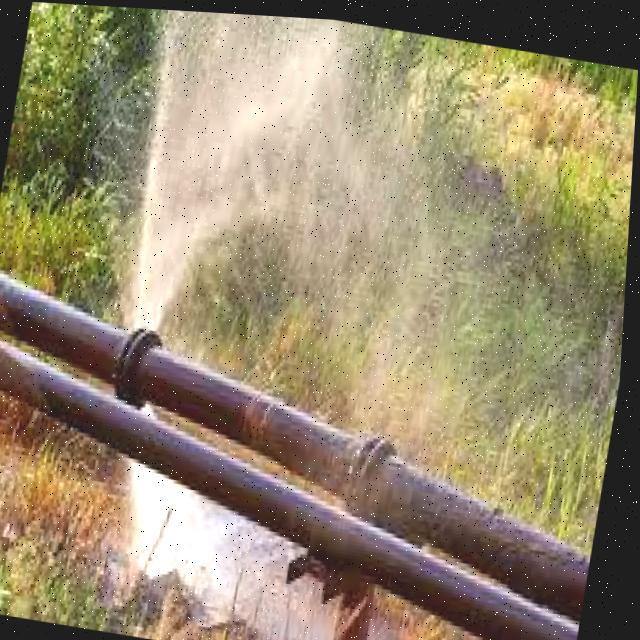corrosion: (56, 222, 237, 417)
